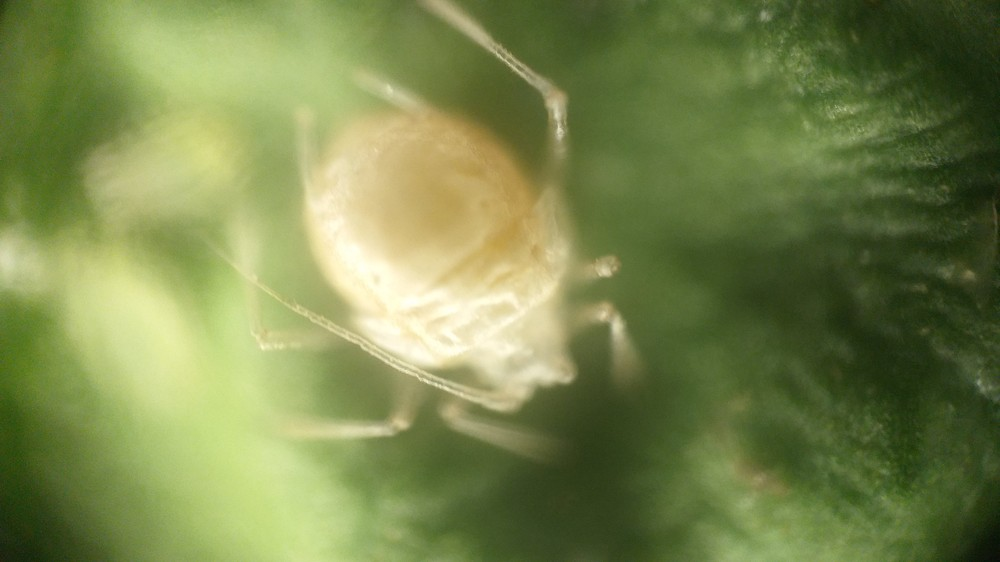Pulgon: (213, 23, 716, 497)
